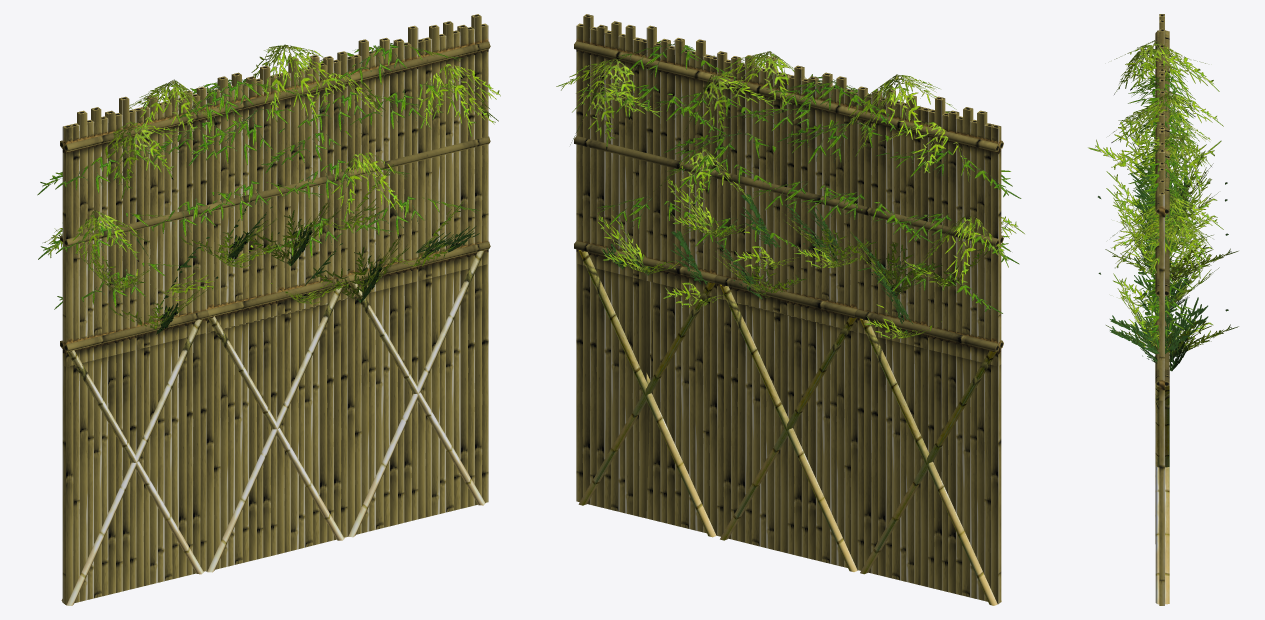
File: s_special_palisade_bamboo_long_palisade.glb
3 renders of one model, left to right at view 1: azimuth 30°, elevation 25°; view 2: azimuth 150°, elevation 25°; view 3: azimuth 270°, elevation 25°, orthographic. The views are drawn at different scales.
Parts seen in each view (by area): view 1: s_special_palisade_bamboo_long_palisade_part0, s_special_palisade_bamboo_long_palisade_part1; view 2: s_special_palisade_bamboo_long_palisade_part0, s_special_palisade_bamboo_long_palisade_part1; view 3: s_special_palisade_bamboo_long_palisade_part1, s_special_palisade_bamboo_long_palisade_part0.
Boxes of the visible parts, x1,y1,x2,y2 form: s_special_palisade_bamboo_long_palisade_part0: (60, 14, 490, 605); s_special_palisade_bamboo_long_palisade_part1: (37, 42, 500, 334); s_special_palisade_bamboo_long_palisade_part0: (574, 14, 1003, 605); s_special_palisade_bamboo_long_palisade_part1: (556, 40, 1024, 338); s_special_palisade_bamboo_long_palisade_part1: (1088, 40, 1238, 371); s_special_palisade_bamboo_long_palisade_part0: (1155, 14, 1169, 605).
Size of the model in its own units: 3 by 3.05 by 1.11.
2 materials, 2 textured.
